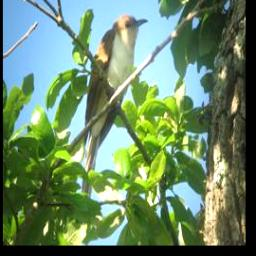Cuckoo: (79, 12, 152, 205)
